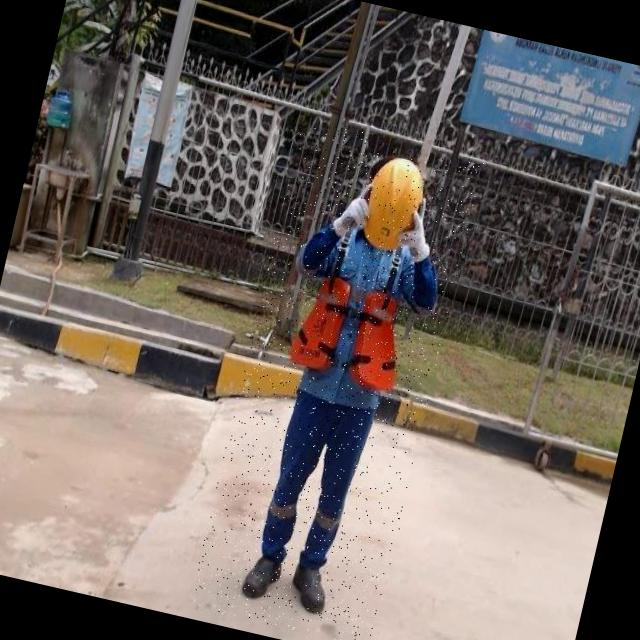boots: (282, 546, 338, 620), (238, 542, 292, 607)
helmet: (354, 148, 431, 258)
vest: (284, 272, 414, 392)
